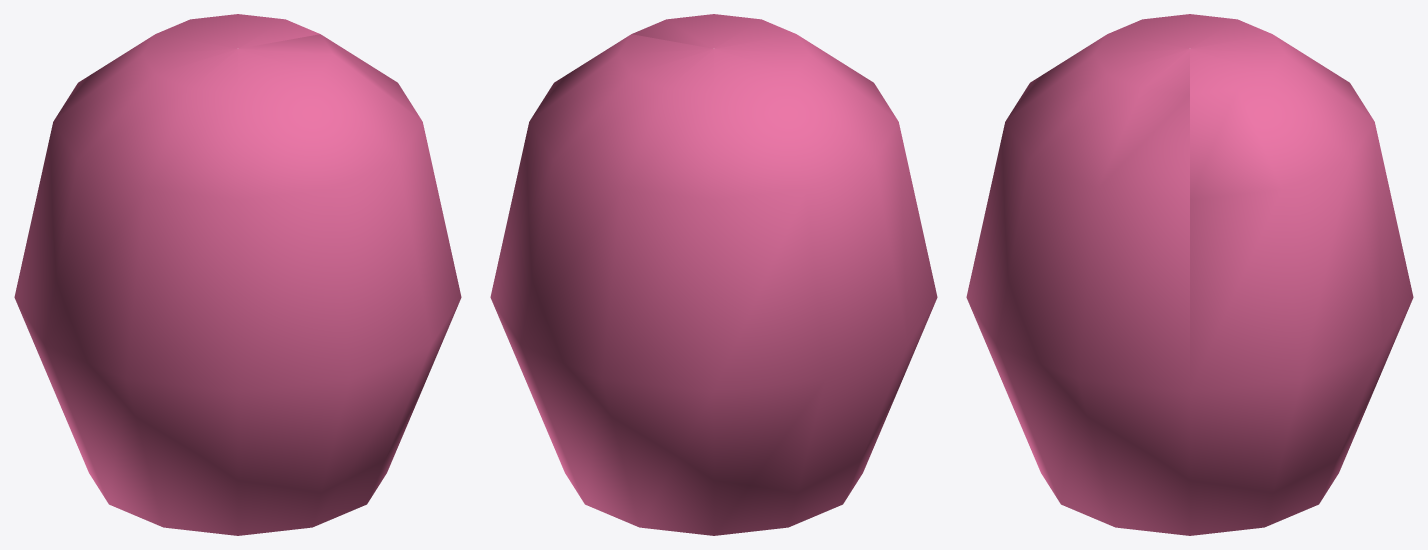
File: fruit-cactus-gold.glb
3 views of the same model, side by side, from view 1: azimuth 30°, elevation 25°; view 2: azimuth 150°, elevation 25°; view 3: azimuth 270°, elevation 25° (orthographic).
Visible parts, largest first — view 1: fruit-cactus; view 2: fruit-cactus; view 3: fruit-cactus.
Part boxes in pixels (x1,y1,x2,y2): fruit-cactus: [14, 14, 461, 535]; fruit-cactus: [490, 14, 937, 535]; fruit-cactus: [966, 14, 1413, 535].
Bounding box in the file's own units: 0.3 × 0.344 × 0.3.
